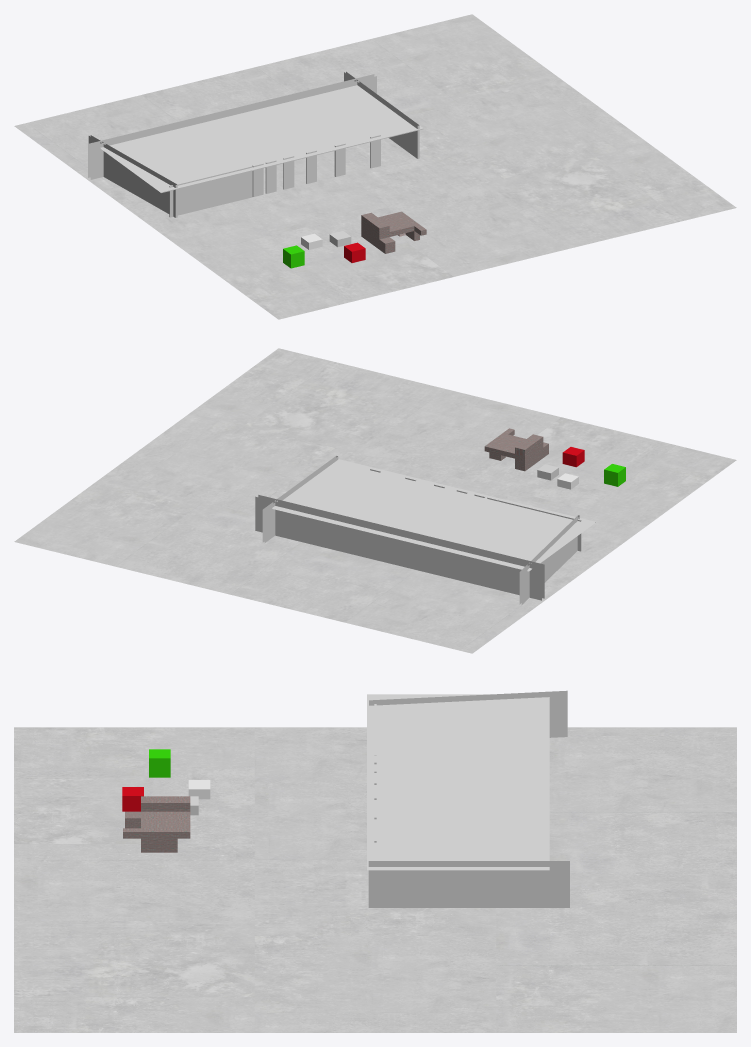
File: bake-test.glb
3 renders of one model, top to bottom at view 1: azimuth 30°, elevation 25°; view 2: azimuth 150°, elevation 25°; view 3: azimuth 270°, elevation 25°, orthographic. The views are drawn at different scales.
Visible parts, largest first — view 1: Plane, Cube.010, Cube; view 2: Plane, Cube.010, Cube; view 3: Plane, Cube.010, Cube, Cube.004.
Part boxes in pixels (x1,y1,x2,y2): Plane: [14, 14, 736, 319]; Cube.010: [88, 71, 423, 217]; Cube: [361, 211, 426, 253]; Plane: [14, 348, 736, 653]; Cube.010: [255, 456, 595, 604]; Cube: [484, 428, 548, 471]; Plane: [14, 727, 736, 1032]; Cube.010: [367, 690, 569, 907]; Cube: [123, 796, 190, 852]; Cube.004: [149, 749, 170, 777].
Size of the model in its own units: 66.33 by 5.72 by 66.33.
6 materials, 2 textured.
